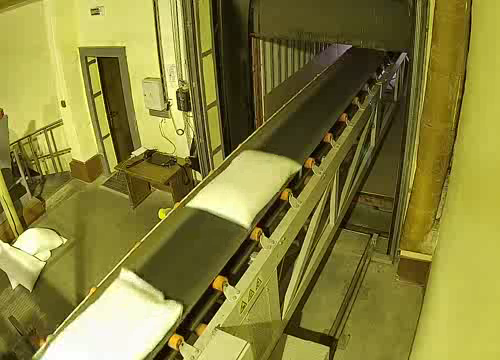bag: (39, 263, 185, 360), (183, 146, 305, 233)
